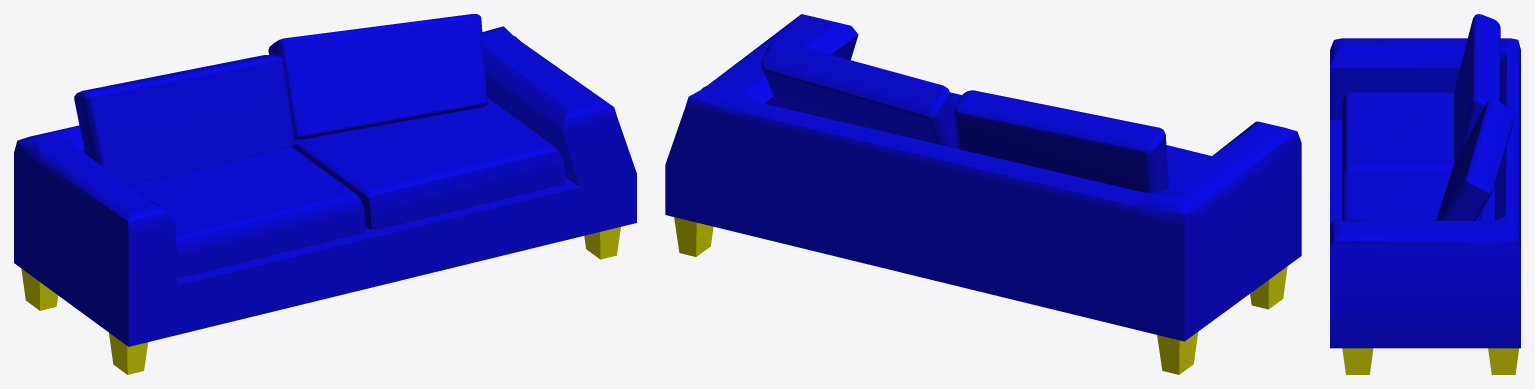
Rendered from couch.fbx.
3 views of the same model, side by side, from view 1: azimuth 30°, elevation 25°; view 2: azimuth 150°, elevation 25°; view 3: azimuth 270°, elevation 25° (orthographic). The views are drawn at different scales.
Parts seen in each view (by area): view 1: Couch1; view 2: Couch1; view 3: Couch1.
Part boxes in pixels (x1,y1,x2,y2): Couch1: [14, 14, 636, 374]; Couch1: [665, 14, 1301, 374]; Couch1: [1330, 14, 1520, 374].
Bounding box in the file's own units: 73.57 × 29.67 × 28.71.
